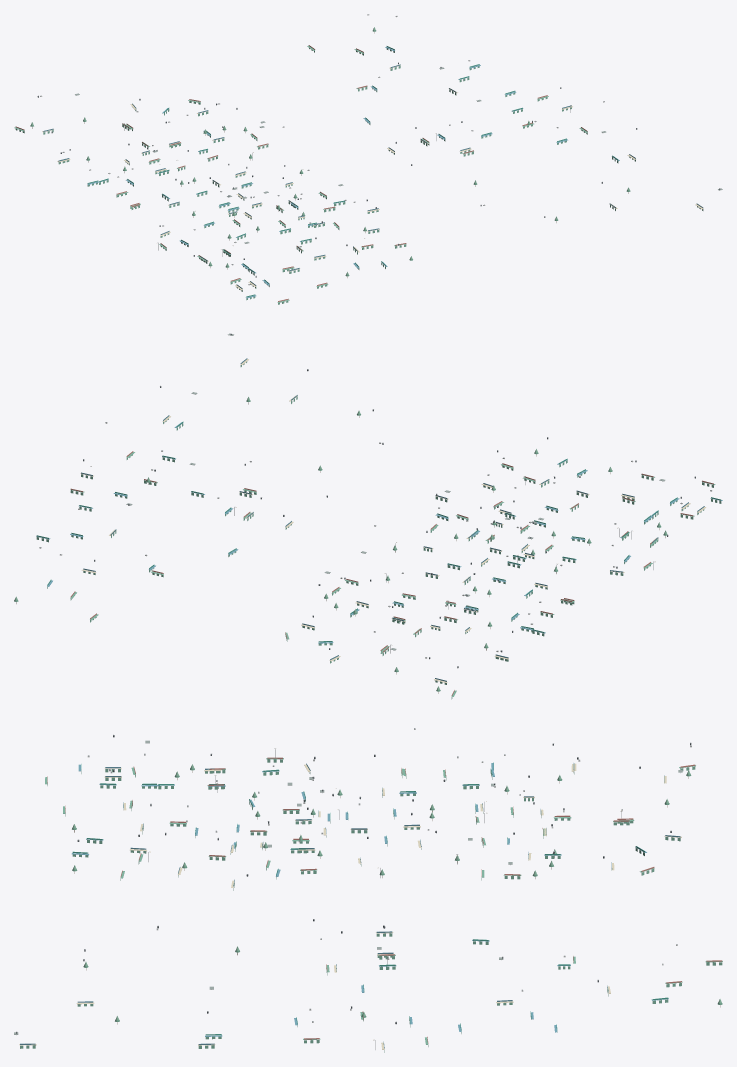
3 renders of one model, top to bottom at view 1: azimuth 30°, elevation 25°; view 2: azimuth 150°, elevation 25°; view 3: azimuth 270°, elevation 25°, orthographic. The views are drawn at different scales.
Parts seen in each view (by area): view 1: Station neighborhood architectural details; view 2: Station neighborhood architectural details; view 3: Station neighborhood architectural details.
Boxes of the visible parts, x1=… form: Station neighborhood architectural details: x1=14, y1=14, x2=722, y2=304; Station neighborhood architectural details: x1=14, y1=333, x2=722, y2=699; Station neighborhood architectural details: x1=14, y1=728, x2=722, y2=1052.
Bounding box in the file's own units: 452 × 33.9 × 448.
